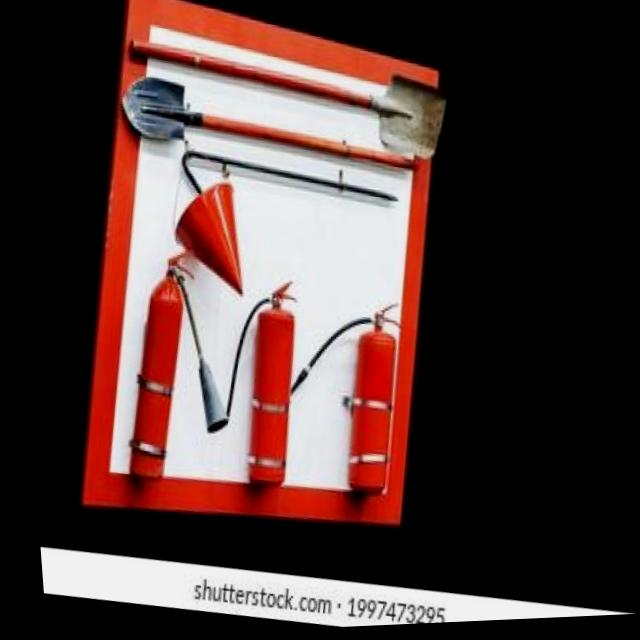FireExtinguisher: (101, 234, 254, 500), (259, 284, 413, 499), (196, 268, 310, 495)
